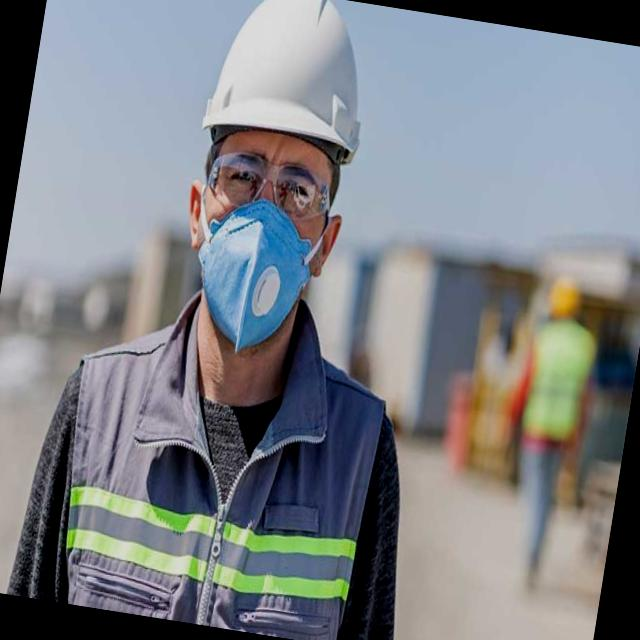goggles: (200, 146, 340, 226)
helmet: (181, 0, 388, 171)
vest: (34, 261, 409, 640)
